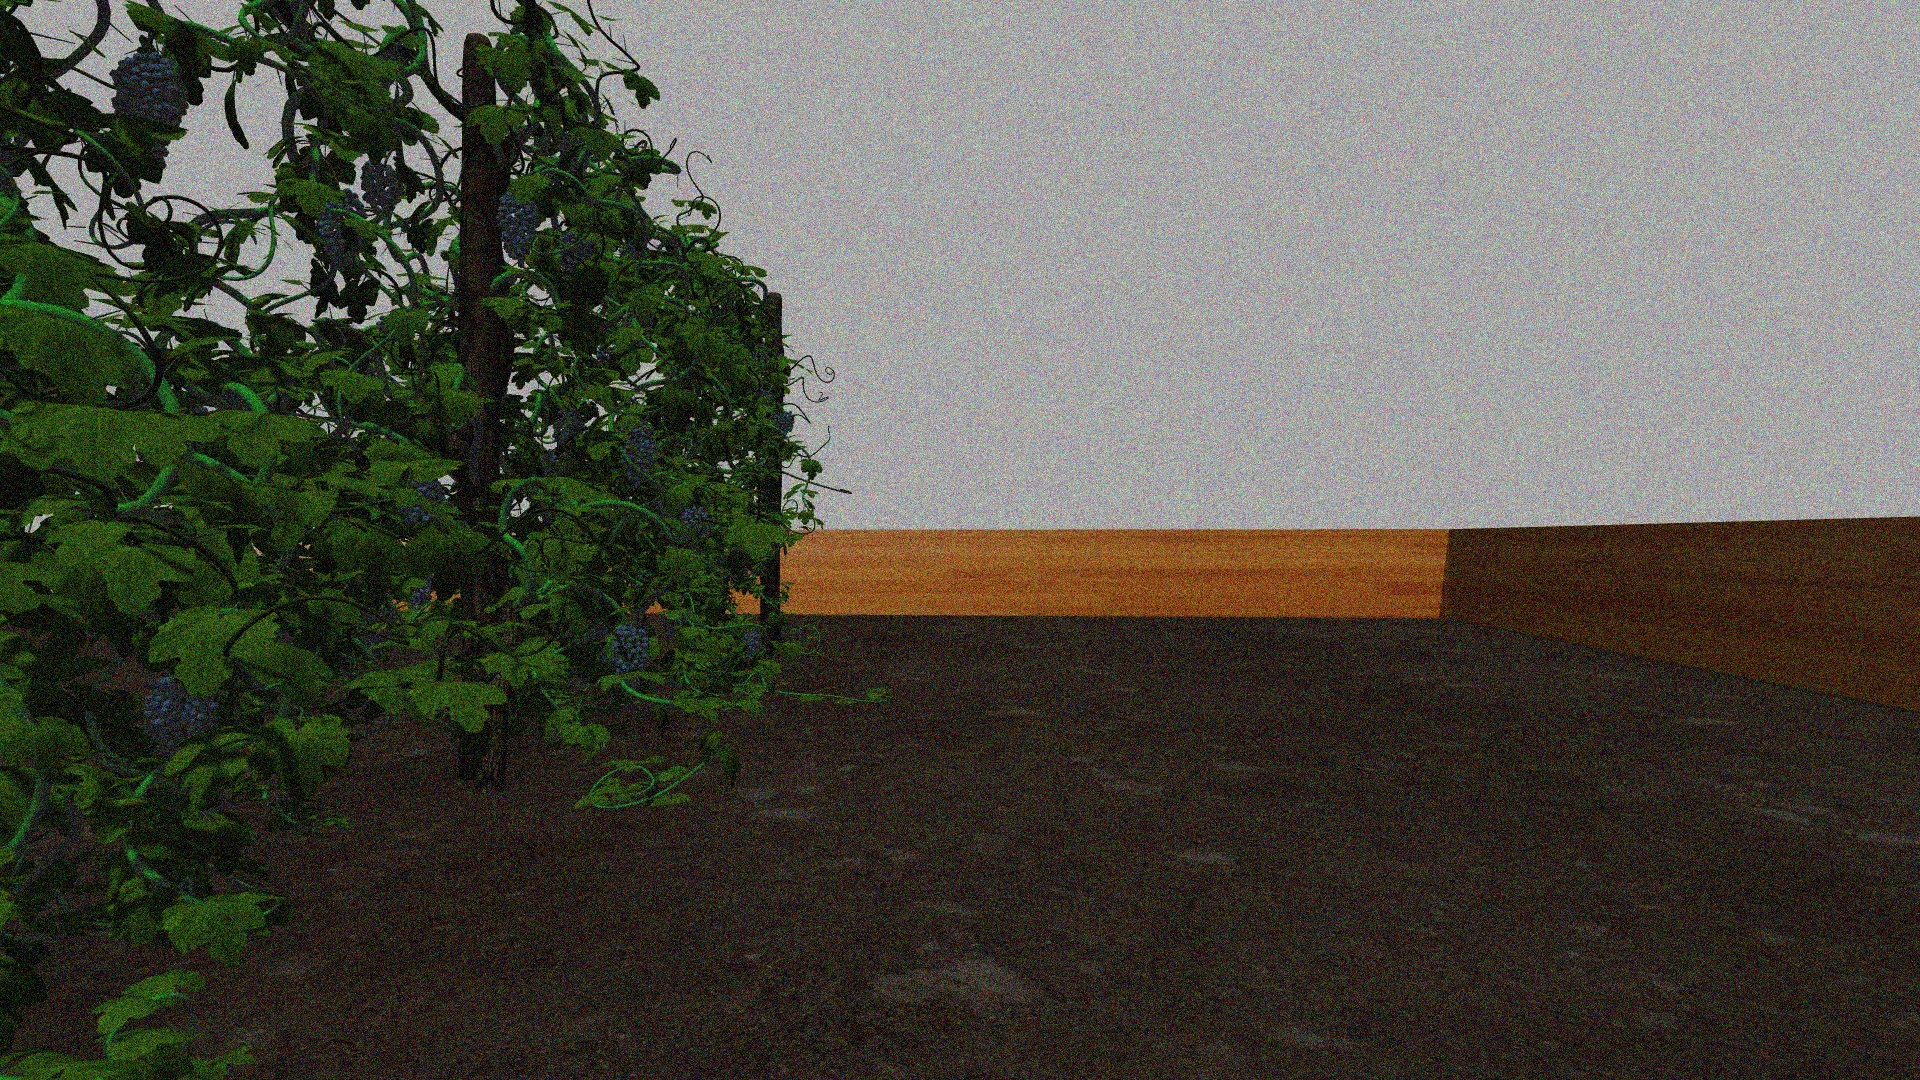grape: (111, 54, 190, 156), (319, 189, 368, 268), (495, 193, 541, 266), (142, 678, 185, 749), (359, 160, 400, 218), (622, 425, 655, 487), (611, 626, 647, 680), (183, 692, 219, 741), (558, 229, 593, 272), (738, 632, 762, 662), (771, 407, 796, 434), (680, 505, 708, 527)
